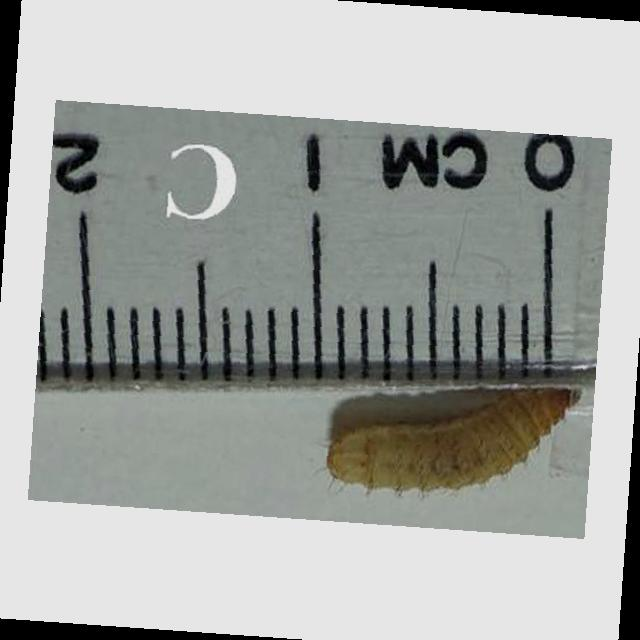Maggot: (326, 381, 588, 491)
